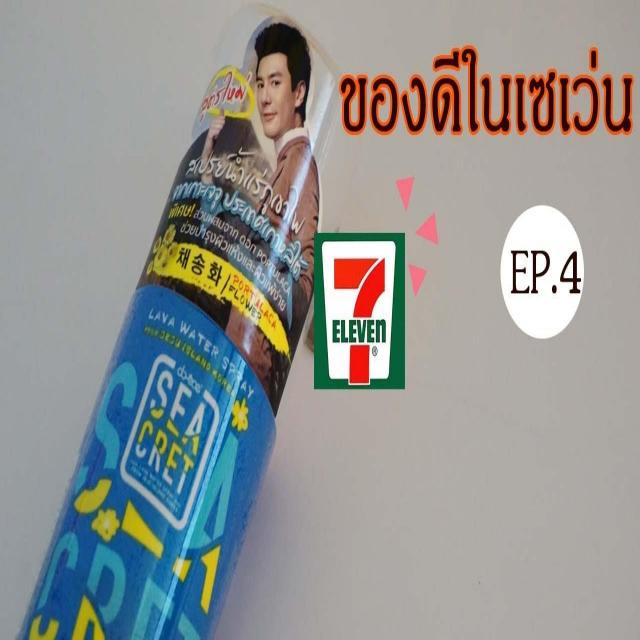bottle: (20, 182, 284, 640)
